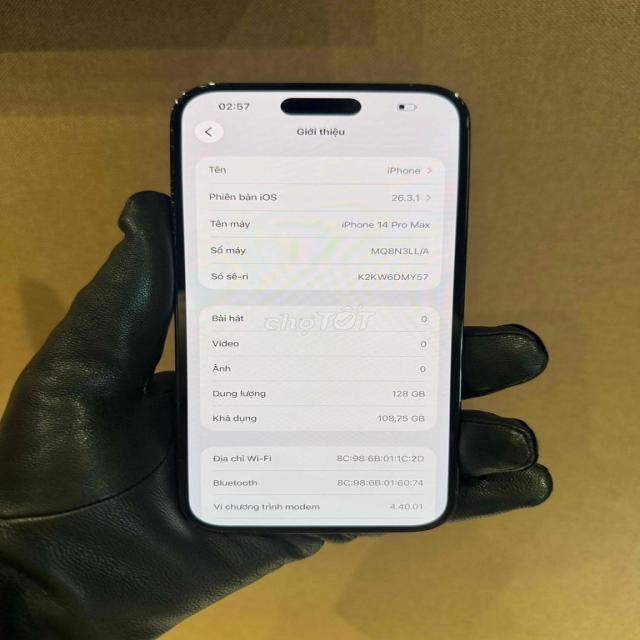gen_14: (151, 66, 470, 538)
